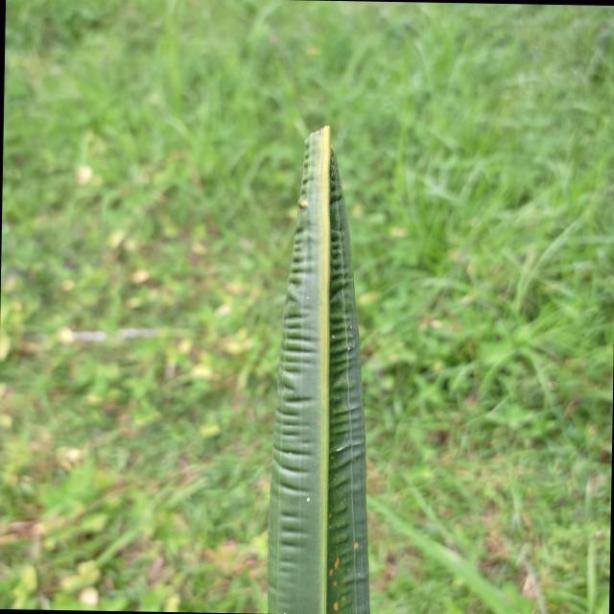Boron: (263, 92, 372, 614)
